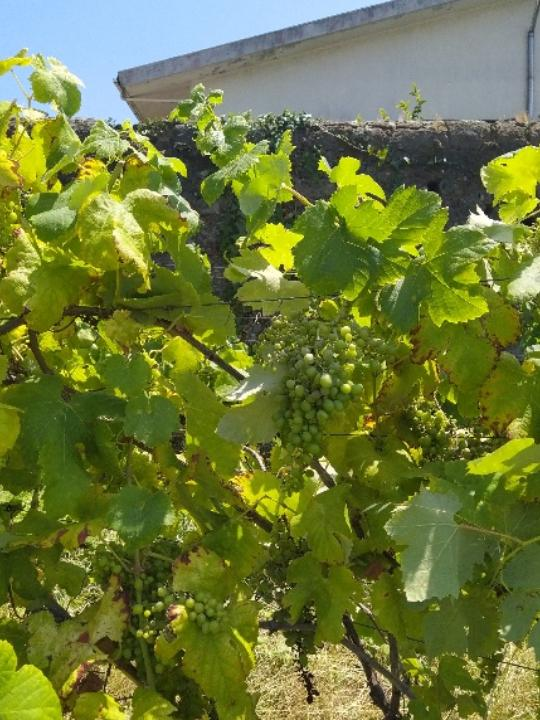grape: (271, 325, 364, 498), (0, 446, 7, 602)
